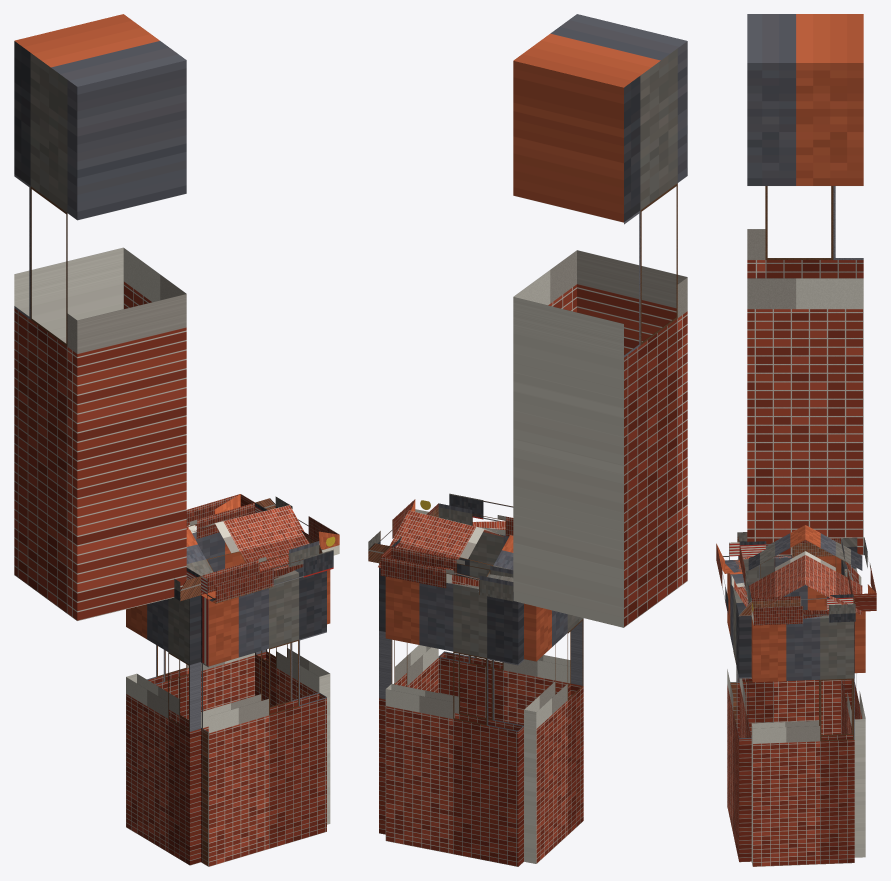
3 renders of one model, left to right at view 1: azimuth 30°, elevation 25°; view 2: azimuth 150°, elevation 25°; view 3: azimuth 270°, elevation 25°, orthographic. The views are drawn at different scales.
Parts seen in each view (by area): view 1: 1106964408__chimney_0_xb, 1106964408__wall_2_xb, 1106964408__wall_3_xb, 1106964408_roof_-1_xb, 1106964408__wall_0_xb, 1106964408__wall_1_xb, 1106964408__cornice_2, 1106964408__cornice_0, 1106964408__cornice_1; view 2: 1106964408__chimney_0_xb, 1106964408__wall_0_xb, 1106964408__wall_3_xb, 1106964408__wall_2_xb, 1106964408__wall_1_xb, 1106964408_roof_1_xb, 1106964408__cornice_0, 1106964408__cornice_2, 1106964408__cornice_1; view 3: 1106964408__chimney_0_xb, 1106964408__wall_1_xb, 1106964408__wall_2_xb, 1106964408__wall_3_xb, 1106964408__wall_0_xb, 1106964408_roof_1_xb, 1106964408_roof_-1_xb, 1106964408__cornice_1, 1106964408__cornice_2, 1106964408__cornice_0, 1106964408__cornice_3.
Part boxes in pixels (x1,y1,x2,y2): 1106964408__chimney_0_xb: (14, 14, 186, 620); 1106964408__wall_2_xb: (201, 567, 326, 866); 1106964408__wall_3_xb: (126, 595, 200, 865); 1106964408_roof_-1_xb: (186, 505, 309, 579); 1106964408__wall_0_xb: (147, 532, 254, 720); 1106964408__wall_1_xb: (255, 570, 330, 824); 1106964408__cornice_2: (201, 541, 333, 603); 1106964408__cornice_0: (186, 494, 254, 538); 1106964408__cornice_1: (255, 496, 339, 555); 1106964408__chimney_0_xb: (513, 14, 687, 627); 1106964408__wall_0_xb: (385, 576, 523, 866); 1106964408__wall_3_xb: (524, 603, 583, 863); 1106964408__wall_2_xb: (438, 527, 570, 725); 1106964408__wall_1_xb: (379, 563, 438, 834); 1106964408_roof_1_xb: (378, 510, 513, 591); 1106964408__cornice_0: (380, 546, 513, 601); 1106964408__cornice_2: (438, 493, 513, 536); 1106964408__cornice_1: (368, 499, 438, 563); 1106964408__chimney_0_xb: (747, 14, 863, 555); 1106964408__wall_1_xb: (751, 615, 854, 866); 1106964408__wall_2_xb: (727, 559, 751, 862); 1106964408__wall_3_xb: (738, 556, 841, 736); 1106964408__wall_0_xb: (841, 560, 865, 857); 1106964408_roof_1_xb: (805, 525, 862, 615); 1106964408_roof_-1_xb: (748, 525, 805, 607); 1106964408__cornice_1: (751, 594, 855, 625); 1106964408__cornice_2: (716, 542, 751, 616); 1106964408__cornice_0: (841, 537, 876, 611); 1106964408__cornice_3: (737, 532, 841, 559).
Bounding box in the file's own units: 0.3646 × 1.05 × 0.2066.
1 material, 1 textured.
